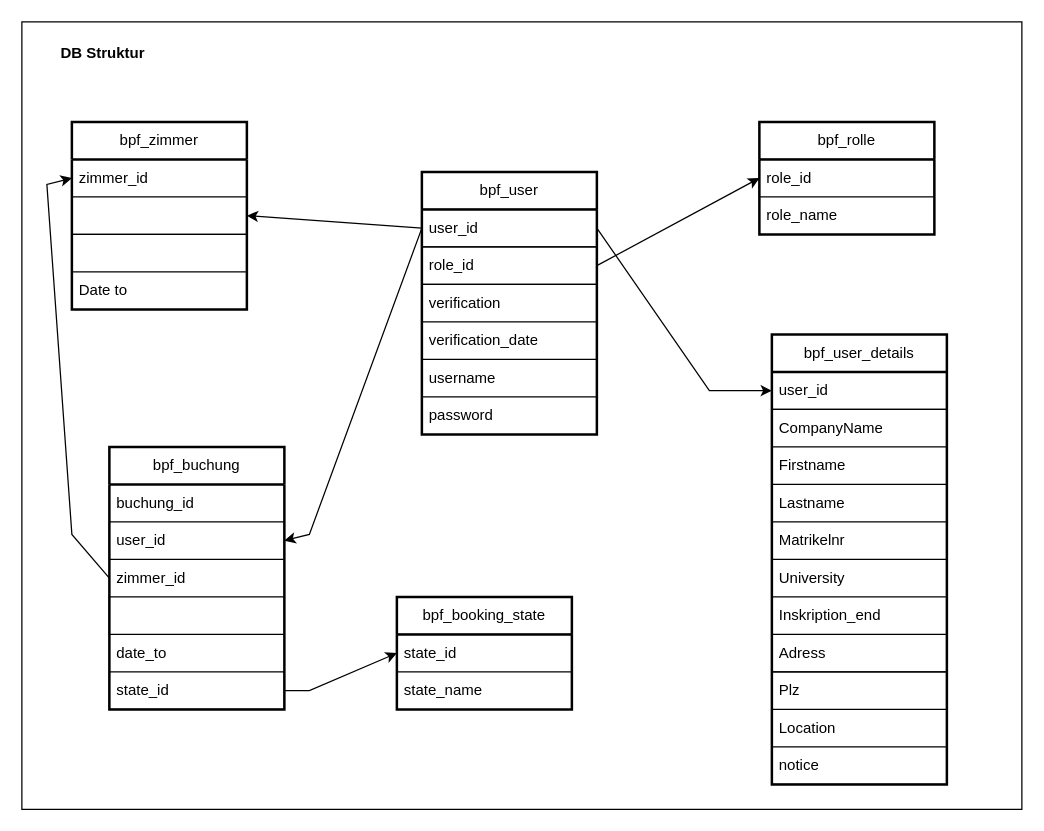
This 1044x831 diagram has some shape labels left out. The shapes that lost their labels are listed below. From the top down, each one's centre as x and y in pixels, then its label:
At (x=159, y=215): "owner_user_id".
At (x=159, y=252): "Date from".
At (x=196, y=615): "date_from".
